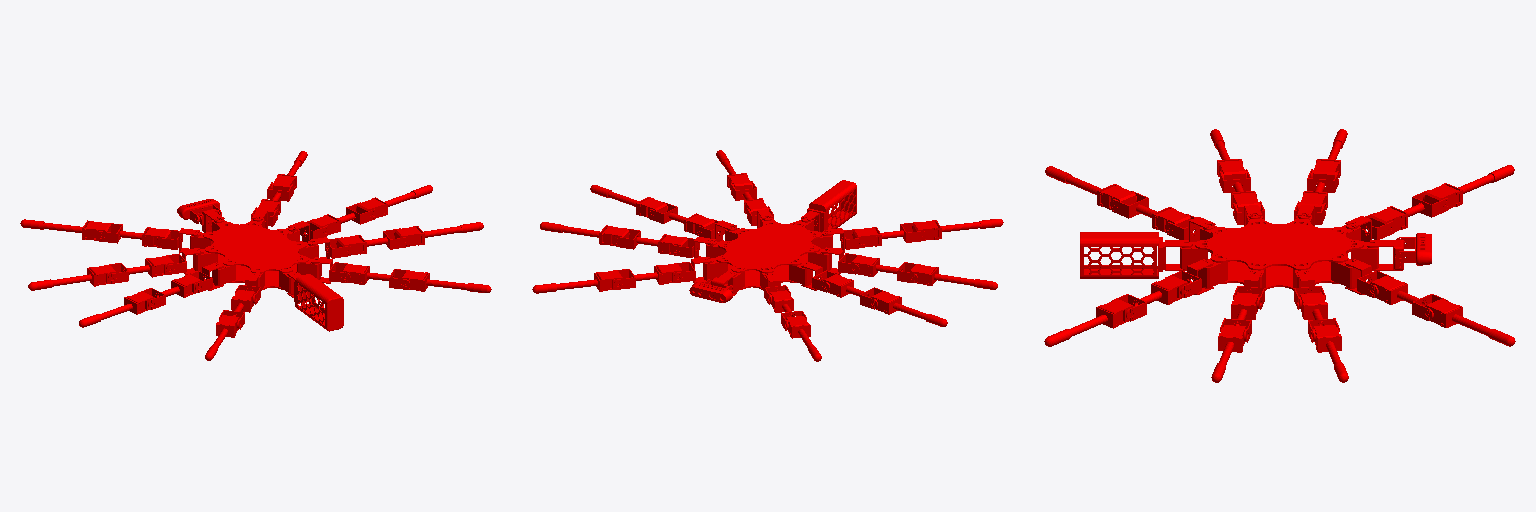
--- Facts derived from the render (not from the file) ---
3 views of the same robot in one strip: view 1: azimuth 30°, elevation 25°; view 2: azimuth 150°, elevation 25°; view 3: azimuth 270°, elevation 25° (orthographic).
Model nightmare_v2 with 54 links and 53 joints (27 continuous, 26 fixed), rooted at base_link, posed all joints at 0.
Links seen in each view (by area): view 1: base_link, Component62_1, head_link_1, leg_6_tibia_1, leg_1_tibia_1, leg_7_tibia_1, leg_1_femur_1, leg_6_femur_1, leg_2_femur_1; view 2: base_link, Component62_1, head_link_1, leg_7_tibia_1, leg_4_tibia_1, leg_6_tibia_1, leg_4_femur_1, leg_7_femur_1, leg_8_tibia_1, leg_8_femur_1, leg_6_femur_1; view 3: base_link, Component62_1, head_link_1, leg_4_tibia_1, leg_1_tibia_1, leg_4_femur_1, leg_1_femur_1, leg_8_femur_1, leg_5_femur_1, leg_3_tibia_1, leg_2_tibia_1, leg_1_coxa_1 (+13 smaller).
Boxes of the visible links, <box> form: base_link: <box>203,221,308,289</box>; Component62_1: <box>287,271,343,331</box>; head_link_1: <box>177,199,221,223</box>; leg_6_tibia_1: <box>28,267,98,290</box>; leg_1_tibia_1: <box>418,272,491,292</box>; leg_7_tibia_1: <box>79,296,140,327</box>; leg_1_femur_1: <box>358,266,409,289</box>; leg_6_femur_1: <box>104,258,156,283</box>; leg_2_femur_1: <box>355,228,407,254</box>; base_link: <box>716,221,821,289</box>; Component62_1: <box>801,180,856,231</box>; head_link_1: <box>689,279,734,302</box>; leg_7_tibia_1: <box>925,267,997,289</box>; leg_4_tibia_1: <box>532,272,603,293</box>; leg_6_tibia_1: <box>884,296,947,326</box>; leg_4_femur_1: <box>613,265,663,289</box>; leg_7_femur_1: <box>867,258,920,282</box>; leg_8_tibia_1: <box>932,219,1003,239</box>; leg_8_femur_1: <box>872,222,923,246</box>; leg_6_femur_1: <box>836,279,888,309</box>; base_link: <box>1195,219,1363,290</box>; Component62_1: <box>1080,232,1188,278</box>; head_link_1: <box>1395,233,1431,265</box>; leg_4_tibia_1: <box>1440,305,1515,346</box>; leg_1_tibia_1: <box>1044,305,1117,346</box>; leg_4_femur_1: <box>1385,282,1448,320</box>; leg_1_femur_1: <box>1111,281,1171,321</box>; leg_8_femur_1: <box>1112,191,1175,229</box>; leg_5_femur_1: <box>1387,190,1447,229</box>; leg_3_tibia_1: <box>1316,334,1348,382</box>; leg_2_tibia_1: <box>1211,333,1242,382</box>; leg_1_coxa_1: <box>1165,259,1213,297</box>.
Bounding box of the posed robot: 937 × 753 × 71.4 m (x, y, z).
54 mesh visuals loaded from 54 distinct referenced files (54 ASCII STL).

The robot description file, URDF, robot "nightmare_v2":
<?xml version="1.0" ?>
<robot name="nightmare_v2">
<link name="base_link">
  <inertial>
    <origin rpy="0 0 0" xyz="0.05 0.0395 0.094"/>
    <mass value="1.536457"/>
    <inertia ixx="0.006536" ixy="-0.0" ixz="0.001516" iyy="0.003408" iyz="-0.001516" izz="0.008833"/>
  </inertial>
  <visual>
    <origin rpy="0 0 0" xyz="0 0 0"/>
    <geometry>
      <mesh filename="package://nightmare_description/meshes/base_link.stl"/>
    </geometry>
    <material name="silver">
      <color rgba="1 0 0 1"/>
    </material>
  </visual>
  <collision>
    <origin rpy="0 0 0" xyz="0 0 0"/>
    <geometry>
      <mesh filename="package://nightmare_description/meshes/base_link.stl"/>
    </geometry>
  </collision>
</link>
<link name="leg_8_motor_1">
  <inertial>
    <origin rpy="0 0 0" xyz="-0.020134 -0.005285000000000005 -0.017271999999999996"/>
    <mass value="0.315076"/>
    <inertia ixx="7e-05" ixy="-1.9e-05" ixz="0.001637" iyy="7e-05" iyz="-0.001637" izz="6.9e-05"/>
  </inertial>
  <visual>
    <origin rpy="0 0 0" xyz="-0.010319 0.059677 -0.1115"/>
    <geometry>
      <mesh filename="package://nightmare_description/meshes/leg_8_motor_1.stl"/>
    </geometry>
    <material name="silver">
      <color rgba="1 0 0 1"/>
    </material>
  </visual>
  <collision>
    <origin rpy="0 0 0" xyz="-0.010319 0.059677 -0.1115"/>
    <geometry>
      <mesh filename="package://nightmare_description/meshes/leg_8_motor_1.stl"/>
    </geometry>
  </collision>
</link>
<link name="leg_1_motor_1">
  <inertial>
    <origin rpy="0 0 0" xyz="0.020134 -0.005284999999999998 -0.017271999999999996"/>
    <mass value="0.315076"/>
    <inertia ixx="7e-05" ixy="1.9e-05" ixz="0.005357" iyy="7e-05" iyz="-0.005357" izz="6.9e-05"/>
  </inertial>
  <visual>
    <origin rpy="0 0 0" xyz="-0.09251 0.062505 -0.1115"/>
    <geometry>
      <mesh filename="package://nightmare_description/meshes/leg_1_motor_1.stl"/>
    </geometry>
    <material name="silver">
      <color rgba="1 0 0 1"/>
    </material>
  </visual>
  <collision>
    <origin rpy="0 0 0" xyz="-0.09251 0.062505 -0.1115"/>
    <geometry>
      <mesh filename="package://nightmare_description/meshes/leg_1_motor_1.stl"/>
    </geometry>
  </collision>
</link>
<link name="tail_motor_1">
  <inertial>
    <origin rpy="0 0 0" xyz="-0.010499999999999995 -0.017974000000000004 -0.017271999999999996"/>
    <mass value="0.315076"/>
    <inertia ixx="8.8e-05" ixy="-0.0" ixz="0.004371" iyy="5.1e-05" iyz="-0.004371" izz="6.9e-05"/>
  </inertial>
  <visual>
    <origin rpy="0 0 0" xyz="-0.06025 0.0795 -0.1115"/>
    <geometry>
      <mesh filename="package://nightmare_description/meshes/tail_motor_1.stl"/>
    </geometry>
    <material name="silver">
      <color rgba="1 0 0 1"/>
    </material>
  </visual>
  <collision>
    <origin rpy="0 0 0" xyz="-0.06025 0.0795 -0.1115"/>
    <geometry>
      <mesh filename="package://nightmare_description/meshes/tail_motor_1.stl"/>
    </geometry>
  </collision>
</link>
<link name="leg_2_motor_1">
  <inertial>
    <origin rpy="0 0 0" xyz="0.019523999999999986 0.007219 -0.017271999999999996"/>
    <mass value="0.315076"/>
    <inertia ixx="5.2e-05" ixy="6e-06" ixz="0.004295" iyy="8.7e-05" iyz="-0.004295" izz="6.9e-05"/>
  </inertial>
  <visual>
    <origin rpy="0 0 0" xyz="-0.127311 0.005052 -0.1115"/>
    <geometry>
      <mesh filename="package://nightmare_description/meshes/leg_2_motor_1.stl"/>
    </geometry>
    <material name="silver">
      <color rgba="1 0 0 1"/>
    </material>
  </visual>
  <collision>
    <origin rpy="0 0 0" xyz="-0.127311 0.005052 -0.1115"/>
    <geometry>
      <mesh filename="package://nightmare_description/meshes/leg_2_motor_1.stl"/>
    </geometry>
  </collision>
</link>
<link name="leg_3_motor_1">
  <inertial>
    <origin rpy="0 0 0" xyz="0.019523999999999986 -0.007219000000000003 -0.017271999999999996"/>
    <mass value="0.315076"/>
    <inertia ixx="5.2e-05" ixy="-6e-06" ixz="0.002078" iyy="8.7e-05" iyz="-0.002078" izz="6.9e-05"/>
  </inertial>
  <visual>
    <origin rpy="0 0 0" xyz="-0.127311 -0.084052 -0.1115"/>
    <geometry>
      <mesh filename="package://nightmare_description/meshes/leg_3_motor_1.stl"/>
    </geometry>
    <material name="silver">
      <color rgba="1 0 0 1"/>
    </material>
  </visual>
  <collision>
    <origin rpy="0 0 0" xyz="-0.127311 -0.084052 -0.1115"/>
    <geometry>
      <mesh filename="package://nightmare_description/meshes/leg_3_motor_1.stl"/>
    </geometry>
  </collision>
</link>
<link name="leg_4_motor_1">
  <inertial>
    <origin rpy="0 0 0" xyz="0.020134 0.005285000000000012 -0.017271999999999996"/>
    <mass value="0.315076"/>
    <inertia ixx="7e-05" ixy="-1.9e-05" ixz="-0.001014" iyy="7e-05" iyz="0.001014" izz="6.9e-05"/>
  </inertial>
  <visual>
    <origin rpy="0 0 0" xyz="-0.09251 -0.141505 -0.1115"/>
    <geometry>
      <mesh filename="package://nightmare_description/meshes/leg_4_motor_1.stl"/>
    </geometry>
    <material name="silver">
      <color rgba="1 0 0 1"/>
    </material>
  </visual>
  <collision>
    <origin rpy="0 0 0" xyz="-0.09251 -0.141505 -0.1115"/>
    <geometry>
      <mesh filename="package://nightmare_description/meshes/leg_4_motor_1.stl"/>
    </geometry>
  </collision>
</link>
<link name="head_motor_pan_1">
  <inertial>
    <origin rpy="0 0 0" xyz="0.010500000000000002 0.01797399999999999 -0.017271999999999996"/>
    <mass value="0.315076"/>
    <inertia ixx="8.8e-05" ixy="0.0" ixz="-0.003747" iyy="5.1e-05" iyz="0.003747" izz="6.9e-05"/>
  </inertial>
  <visual>
    <origin rpy="0 0 0" xyz="-0.03975 -0.1585 -0.1115"/>
    <geometry>
      <mesh filename="package://nightmare_description/meshes/head_motor_pan_1.stl"/>
    </geometry>
    <material name="silver">
      <color rgba="1 0 0 1"/>
    </material>
  </visual>
  <collision>
    <origin rpy="0 0 0" xyz="-0.03975 -0.1585 -0.1115"/>
    <geometry>
      <mesh filename="package://nightmare_description/meshes/head_motor_pan_1.stl"/>
    </geometry>
  </collision>
</link>
<link name="leg_5_motor_1">
  <inertial>
    <origin rpy="0 0 0" xyz="-0.020134 0.005285000000000012 -0.017271999999999996"/>
    <mass value="0.315076"/>
    <inertia ixx="7e-05" ixy="1.9e-05" ixz="-0.004733" iyy="7e-05" iyz="0.004733" izz="6.9e-05"/>
  </inertial>
  <visual>
    <origin rpy="0 0 0" xyz="-0.00749 -0.141505 -0.1115"/>
    <geometry>
      <mesh filename="package://nightmare_description/meshes/leg_5_motor_1.stl"/>
    </geometry>
    <material name="silver">
      <color rgba="1 0 0 1"/>
    </material>
  </visual>
  <collision>
    <origin rpy="0 0 0" xyz="-0.00749 -0.141505 -0.1115"/>
    <geometry>
      <mesh filename="package://nightmare_description/meshes/leg_5_motor_1.stl"/>
    </geometry>
  </collision>
</link>
<link name="leg_6_motor_1">
  <inertial>
    <origin rpy="0 0 0" xyz="-0.019524000000000003 -0.007219000000000003 -0.017271999999999996"/>
    <mass value="0.315076"/>
    <inertia ixx="5.2e-05" ixy="6e-06" ixz="-0.003672" iyy="8.7e-05" iyz="0.003671" izz="6.9e-05"/>
  </inertial>
  <visual>
    <origin rpy="0 0 0" xyz="0.027311 -0.084052 -0.1115"/>
    <geometry>
      <mesh filename="package://nightmare_description/meshes/leg_6_motor_1.stl"/>
    </geometry>
    <material name="silver">
      <color rgba="1 0 0 1"/>
    </material>
  </visual>
  <collision>
    <origin rpy="0 0 0" xyz="0.027311 -0.084052 -0.1115"/>
    <geometry>
      <mesh filename="package://nightmare_description/meshes/leg_6_motor_1.stl"/>
    </geometry>
  </collision>
</link>
<link name="leg_7_motor_1">
  <inertial>
    <origin rpy="0 0 0" xyz="-0.019524000000000003 0.007219 -0.017271999999999996"/>
    <mass value="0.315076"/>
    <inertia ixx="5.2e-05" ixy="-6e-06" ixz="-0.001455" iyy="8.7e-05" iyz="0.001455" izz="6.9e-05"/>
  </inertial>
  <visual>
    <origin rpy="0 0 0" xyz="0.027311 0.005052 -0.1115"/>
    <geometry>
      <mesh filename="package://nightmare_description/meshes/leg_7_motor_1.stl"/>
    </geometry>
    <material name="silver">
      <color rgba="1 0 0 1"/>
    </material>
  </visual>
  <collision>
    <origin rpy="0 0 0" xyz="0.027311 0.005052 -0.1115"/>
    <geometry>
      <mesh filename="package://nightmare_description/meshes/leg_7_motor_1.stl"/>
    </geometry>
  </collision>
</link>
<link name="leg_1_coxa_1">
  <inertial>
    <origin rpy="0 0 0" xyz="0.02405299999999999 -0.024052000000000004 -0.020500000000000004"/>
    <mass value="0.073783"/>
    <inertia ixx="3.2e-05" ixy="3e-06" ixz="0.001703" iyy="3.2e-05" iyz="-0.001703" izz="3.5e-05"/>
  </inertial>
  <visual>
    <origin rpy="0 0 0" xyz="-0.121147 0.076294 -0.1145"/>
    <geometry>
      <mesh filename="package://nightmare_description/meshes/leg_1_coxa_1.stl"/>
    </geometry>
    <material name="silver">
      <color rgba="1 0 0 1"/>
    </material>
  </visual>
  <collision>
    <origin rpy="0 0 0" xyz="-0.121147 0.076294 -0.1145"/>
    <geometry>
      <mesh filename="package://nightmare_description/meshes/leg_1_coxa_1.stl"/>
    </geometry>
  </collision>
</link>
<link name="leg_8_coxa_1">
  <inertial>
    <origin rpy="0 0 0" xyz="-0.024052 -0.02405299999999999 -0.020500000000000004"/>
    <mass value="0.073783"/>
    <inertia ixx="3.2e-05" ixy="-3e-06" ixz="0.000382" iyy="3.2e-05" iyz="-0.000382" izz="3.5e-05"/>
  </inertial>
  <visual>
    <origin rpy="0 0 0" xyz="0.018319 0.073465 -0.1145"/>
    <geometry>
      <mesh filename="package://nightmare_description/meshes/leg_8_coxa_1.stl"/>
    </geometry>
    <material name="silver">
      <color rgba="1 0 0 1"/>
    </material>
  </visual>
  <collision>
    <origin rpy="0 0 0" xyz="0.018319 0.073465 -0.1145"/>
    <geometry>
      <mesh filename="package://nightmare_description/meshes/leg_8_coxa_1.stl"/>
    </geometry>
  </collision>
</link>
<link name="leg_7_coxa_1">
  <inertial>
    <origin rpy="0 0 0" xyz="-0.03349799999999999 -0.005907 -0.020500000000000004"/>
    <mass value="0.073783"/>
    <inertia ixx="3e-05" ixy="-1e-06" ixz="-0.000599" iyy="3.5e-05" iyz="0.000599" izz="3.5e-05"/>
  </inertial>
  <visual>
    <origin rpy="0 0 0" xyz="0.058679 -7.9e-05 -0.1145"/>
    <geometry>
      <mesh filename="package://nightmare_description/meshes/leg_7_coxa_1.stl"/>
    </geometry>
    <material name="silver">
      <color rgba="1 0 0 1"/>
    </material>
  </visual>
  <collision>
    <origin rpy="0 0 0" xyz="0.058679 -7.9e-05 -0.1145"/>
    <geometry>
      <mesh filename="package://nightmare_description/meshes/leg_7_coxa_1.stl"/>
    </geometry>
  </collision>
</link>
<link name="leg_6_coxa_1">
  <inertial>
    <origin rpy="0 0 0" xyz="-0.03349799999999999 0.005906999999999996 -0.020500000000000004"/>
    <mass value="0.073783"/>
    <inertia ixx="3e-05" ixy="1e-06" ixz="-0.001228" iyy="3.5e-05" iyz="0.001228" izz="3.5e-05"/>
  </inertial>
  <visual>
    <origin rpy="0 0 0" xyz="0.058679 -0.078921 -0.1145"/>
    <geometry>
      <mesh filename="package://nightmare_description/meshes/leg_6_coxa_1.stl"/>
    </geometry>
    <material name="silver">
      <color rgba="1 0 0 1"/>
    </material>
  </visual>
  <collision>
    <origin rpy="0 0 0" xyz="0.058679 -0.078921 -0.1145"/>
    <geometry>
      <mesh filename="package://nightmare_description/meshes/leg_6_coxa_1.stl"/>
    </geometry>
  </collision>
</link>
<link name="leg_5_coxa_1">
  <inertial>
    <origin rpy="0 0 0" xyz="-0.024052999999999998 0.024052000000000018 -0.020500000000000004"/>
    <mass value="0.073783"/>
    <inertia ixx="3.2e-05" ixy="3e-06" ixz="-0.001557" iyy="3.2e-05" iyz="0.001557" izz="3.5e-05"/>
  </inertial>
  <visual>
    <origin rpy="0 0 0" xyz="0.021147 -0.155294 -0.1145"/>
    <geometry>
      <mesh filename="package://nightmare_description/meshes/leg_5_coxa_1.stl"/>
    </geometry>
    <material name="silver">
      <color rgba="1 0 0 1"/>
    </material>
  </visual>
  <collision>
    <origin rpy="0 0 0" xyz="0.021147 -0.155294 -0.1145"/>
    <geometry>
      <mesh filename="package://nightmare_description/meshes/leg_5_coxa_1.stl"/>
    </geometry>
  </collision>
</link>
<link name="leg_4_coxa_1">
  <inertial>
    <origin rpy="0 0 0" xyz="0.02405299999999999 0.024052000000000018 -0.020500000000000004"/>
    <mass value="0.073783"/>
    <inertia ixx="3.2e-05" ixy="-3e-06" ixz="-0.000237" iyy="3.2e-05" iyz="0.000237" izz="3.5e-05"/>
  </inertial>
  <visual>
    <origin rpy="0 0 0" xyz="-0.121147 -0.155294 -0.1145"/>
    <geometry>
      <mesh filename="package://nightmare_description/meshes/leg_4_coxa_1.stl"/>
    </geometry>
    <material name="silver">
      <color rgba="1 0 0 1"/>
    </material>
  </visual>
  <collision>
    <origin rpy="0 0 0" xyz="-0.121147 -0.155294 -0.1145"/>
    <geometry>
      <mesh filename="package://nightmare_description/meshes/leg_4_coxa_1.stl"/>
    </geometry>
  </collision>
</link>
<link name="leg_3_coxa_1">
  <inertial>
    <origin rpy="0 0 0" xyz="0.033498 0.005906999999999996 -0.020500000000000004"/>
    <mass value="0.073783"/>
    <inertia ixx="3e-05" ixy="-1e-06" ixz="0.000745" iyy="3.5e-05" iyz="-0.000745" izz="3.5e-05"/>
  </inertial>
  <visual>
    <origin rpy="0 0 0" xyz="-0.158679 -0.078921 -0.1145"/>
    <geometry>
      <mesh filename="package://nightmare_description/meshes/leg_3_coxa_1.stl"/>
    </geometry>
    <material name="silver">
      <color rgba="1 0 0 1"/>
    </material>
  </visual>
  <collision>
    <origin rpy="0 0 0" xyz="-0.158679 -0.078921 -0.1145"/>
    <geometry>
      <mesh filename="package://nightmare_description/meshes/leg_3_coxa_1.stl"/>
    </geometry>
  </collision>
</link>
<link name="leg_2_coxa_1">
  <inertial>
    <origin rpy="0 0 0" xyz="0.033498 -0.005907 -0.020500000000000004"/>
    <mass value="0.073783"/>
    <inertia ixx="3e-05" ixy="1e-06" ixz="0.001373" iyy="3.5e-05" iyz="-0.001373" izz="3.5e-05"/>
  </inertial>
  <visual>
    <origin rpy="0 0 0" xyz="-0.158679 -7.9e-05 -0.1145"/>
    <geometry>
      <mesh filename="package://nightmare_description/meshes/leg_2_coxa_1.stl"/>
    </geometry>
    <material name="silver">
      <color rgba="1 0 0 1"/>
    </material>
  </visual>
  <collision>
    <origin rpy="0 0 0" xyz="-0.158679 -7.9e-05 -0.1145"/>
    <geometry>
      <mesh filename="package://nightmare_description/meshes/leg_2_coxa_1.stl"/>
    </geometry>
  </collision>
</link>
<link name="leg_8_motor__1__1">
  <inertial>
    <origin rpy="0 0 0" xyz="-0.023161 0.006152999999999992 0.0"/>
    <mass value="0.315076"/>
    <inertia ixx="6e-05" ixy="-9e-06" ixz="0.001624" iyy="6e-05" iyz="-0.001624" izz="8.8e-05"/>
  </inertial>
  <visual>
    <origin rpy="0 0 0" xyz="0.051928 0.136066 -0.094"/>
    <geometry>
      <mesh filename="package://nightmare_description/meshes/leg_8_motor__1__1.stl"/>
    </geometry>
    <material name="silver">
      <color rgba="1 0 0 1"/>
    </material>
  </visual>
  <collision>
    <origin rpy="0 0 0" xyz="0.051928 0.136066 -0.094"/>
    <geometry>
      <mesh filename="package://nightmare_description/meshes/leg_8_motor__1__1.stl"/>
    </geometry>
  </collision>
</link>
<link name="leg_7_motor__1__1">
  <inertial>
    <origin rpy="0 0 0" xyz="-0.015442999999999985 0.018324 0.0"/>
    <mass value="0.315076"/>
    <inertia ixx="5.2e-05" ixy="-3e-06" ixz="-0.003671" iyy="6.9e-05" iyz="0.003671" izz="8.8e-05"/>
  </inertial>
  <visual>
    <origin rpy="0 0 0" xyz="0.122116 0.031923 -0.094"/>
    <geometry>
      <mesh filename="package://nightmare_description/meshes/leg_7_motor__1__1.stl"/>
    </geometry>
    <material name="silver">
      <color rgba="1 0 0 1"/>
    </material>
  </visual>
  <collision>
    <origin rpy="0 0 0" xyz="0.122116 0.031923 -0.094"/>
    <geometry>
      <mesh filename="package://nightmare_description/meshes/leg_7_motor__1__1.stl"/>
    </geometry>
  </collision>
</link>
<link name="leg_6_motor__1__1">
  <inertial>
    <origin rpy="0 0 0" xyz="-0.008244000000000001 0.022501000000000007 0.0"/>
    <mass value="0.315076"/>
    <inertia ixx="5.2e-05" ixy="3e-06" ixz="-0.006828" iyy="6.8e-05" iyz="0.006828" izz="8.8e-05"/>
  </inertial>
  <visual>
    <origin rpy="0 0 0" xyz="0.129236 -0.070546 -0.094"/>
    <geometry>
      <mesh filename="package://nightmare_description/meshes/leg_6_motor__1__1.stl"/>
    </geometry>
    <material name="silver">
      <color rgba="1 0 0 1"/>
    </material>
  </visual>
  <collision>
    <origin rpy="0 0 0" xyz="0.129236 -0.070546 -0.094"/>
    <geometry>
      <mesh filename="package://nightmare_description/meshes/leg_6_motor__1__1.stl"/>
    </geometry>
  </collision>
</link>
<link name="leg_5_motor__1__1">
  <inertial>
    <origin rpy="0 0 0" xyz="0.006153000000000006 0.023160000000000014 0.0"/>
    <mass value="0.315076"/>
    <inertia ixx="6e-05" ixy="9e-06" ixz="-0.008579" iyy="6e-05" iyz="0.008579" izz="8.9e-05"/>
  </inertial>
  <visual>
    <origin rpy="0 0 0" xyz="0.083748 -0.188903 -0.094"/>
    <geometry>
      <mesh filename="package://nightmare_description/meshes/leg_5_motor__1__1.stl"/>
    </geometry>
    <material name="silver">
      <color rgba="1 0 0 1"/>
    </material>
  </visual>
  <collision>
    <origin rpy="0 0 0" xyz="0.083748 -0.188903 -0.094"/>
    <geometry>
      <mesh filename="package://nightmare_description/meshes/leg_5_motor__1__1.stl"/>
    </geometry>
  </collision>
</link>
<link name="leg_1_motor__1__1">
  <inertial>
    <origin rpy="0 0 0" xyz="0.022837999999999997 0.005831000000000003 0.0"/>
    <mass value="0.315076"/>
    <inertia ixx="6e-05" ixy="9e-06" ixz="0.009201" iyy="6e-05" iyz="-0.009201" izz="8.9e-05"/>
  </inertial>
  <visual>
    <origin rpy="0 0 0" xyz="-0.154757 0.138894 -0.094"/>
    <geometry>
      <mesh filename="package://nightmare_description/meshes/leg_1_motor__1__1.stl"/>
    </geometry>
    <material name="silver">
      <color rgba="1 0 0 1"/>
    </material>
  </visual>
  <collision>
    <origin rpy="0 0 0" xyz="-0.154757 0.138894 -0.094"/>
    <geometry>
      <mesh filename="package://nightmare_description/meshes/leg_1_motor__1__1.stl"/>
    </geometry>
  </collision>
</link>
<link name="leg_2_motor__1__1">
  <inertial>
    <origin rpy="0 0 0" xyz="0.015363999999999989 0.017876 0.0"/>
    <mass value="0.315076"/>
    <inertia ixx="5.2e-05" ixy="3e-06" ixz="0.00745" iyy="6.8e-05" iyz="-0.007449" izz="8.8e-05"/>
  </inertial>
  <visual>
    <origin rpy="0 0 0" xyz="-0.222116 0.031923 -0.094"/>
    <geometry>
      <mesh filename="package://nightmare_description/meshes/leg_2_motor__1__1.stl"/>
    </geometry>
    <material name="silver">
      <color rgba="1 0 0 1"/>
    </material>
  </visual>
  <collision>
    <origin rpy="0 0 0" xyz="-0.222116 0.031923 -0.094"/>
    <geometry>
      <mesh filename="package://nightmare_description/meshes/leg_2_motor__1__1.stl"/>
    </geometry>
  </collision>
</link>
<link name="leg_3_motor__1__1">
  <inertial>
    <origin rpy="0 0 0" xyz="0.008322999999999997 0.022053000000000003 0.0"/>
    <mass value="0.315076"/>
    <inertia ixx="5.2e-05" ixy="-3e-06" ixz="0.004293" iyy="6.9e-05" iyz="-0.004293" izz="8.8e-05"/>
  </inertial>
  <visual>
    <origin rpy="0 0 0" xyz="-0.229236 -0.070546 -0.094"/>
    <geometry>
      <mesh filename="package://nightmare_description/meshes/leg_3_motor__1__1.stl"/>
    </geometry>
    <material name="silver">
      <color rgba="1 0 0 1"/>
    </material>
  </visual>
  <collision>
    <origin rpy="0 0 0" xyz="-0.229236 -0.070546 -0.094"/>
    <geometry>
      <mesh filename="package://nightmare_description/meshes/leg_3_motor__1__1.stl"/>
    </geometry>
  </collision>
</link>
<link name="leg_4_motor__1__1">
  <inertial>
    <origin rpy="0 0 0" xyz="-0.005831000000000003 0.022839000000000026 0.0"/>
    <mass value="0.315076"/>
    <inertia ixx="6e-05" ixy="-9e-06" ixz="-0.001002" iyy="6e-05" iyz="0.001002" izz="8.8e-05"/>
  </inertial>
  <visual>
    <origin rpy="0 0 0" xyz="-0.183748 -0.188903 -0.094"/>
    <geometry>
      <mesh filename="package://nightmare_description/meshes/leg_4_motor__1__1.stl"/>
    </geometry>
    <material name="silver">
      <color rgba="1 0 0 1"/>
    </material>
  </visual>
  <collision>
    <origin rpy="0 0 0" xyz="-0.183748 -0.188903 -0.094"/>
    <geometry>
      <mesh filename="package://nightmare_description/meshes/leg_4_motor__1__1.stl"/>
    </geometry>
  </collision>
</link>
<link name="leg_1_femur_1">
  <inertial>
    <origin rpy="0 0 0" xyz="0.017867999999999995 -0.04230299999999998 -0.01063299999999999"/>
    <mass value="0.077868"/>
    <inertia ixx="4.3e-05" ixy="2.4e-05" ixz="0.002927" iyy="4.5e-05" iyz="-0.002927" izz="8.3e-05"/>
  </inertial>
  <visual>
    <origin rpy="0 0 0" xyz="-0.204961 0.135359 -0.1045"/>
    <geometry>
      <mesh filename="package://nightmare_description/meshes/leg_1_femur_1.stl"/>
    </geometry>
    <material name="silver">
      <color rgba="1 0 0 1"/>
    </material>
  </visual>
  <collision>
    <origin rpy="0 0 0" xyz="-0.204961 0.135359 -0.1045"/>
    <geometry>
      <mesh filename="package://nightmare_description/meshes/leg_1_femur_1.stl"/>
    </geometry>
  </collision>
</link>
<link name="leg_2_femur_1">
  <inertial>
    <origin rpy="0 0 0" xyz="0.03889999999999999 -0.024404000000000002 -0.01063299999999999"/>
    <mass value="0.077868"/>
    <inertia ixx="2.1e-05" ixy="7e-06" ixz="0.002374" iyy="6.7e-05" iyz="-0.002374" izz="8.3e-05"/>
  </inertial>
  <visual>
    <origin rpy="0 0 0" xyz="-0.261214 0.000231 -0.1045"/>
    <geometry>
      <mesh filename="package://nightmare_description/meshes/leg_2_femur_1.stl"/>
    </geometry>
    <material name="silver">
      <color rgba="1 0 0 1"/>
    </material>
  </visual>
  <collision>
    <origin rpy="0 0 0" xyz="-0.261214 0.000231 -0.1045"/>
    <geometry>
      <mesh filename="package://nightmare_description/meshes/leg_2_femur_1.stl"/>
    </geometry>
  </collision>
</link>
<link name="leg_3_femur_1">
  <inertial>
    <origin rpy="0 0 0" xyz="0.04490200000000005 -0.009626999999999997 -0.01063299999999999"/>
    <mass value="0.077868"/>
    <inertia ixx="2.2e-05" ixy="-9e-06" ixz="0.001432" iyy="6.7e-05" iyz="-0.001432" izz="8.3e-05"/>
  </inertial>
  <visual>
    <origin rpy="0 0 0" xyz="-0.255136 -0.113699 -0.1045"/>
    <geometry>
      <mesh filename="package://nightmare_description/meshes/leg_3_femur_1.stl"/>
    </geometry>
    <material name="silver">
      <color rgba="1 0 0 1"/>
    </material>
  </visual>
  <collision>
    <origin rpy="0 0 0" xyz="-0.255136 -0.113699 -0.1045"/>
    <geometry>
      <mesh filename="package://nightmare_description/meshes/leg_3_femur_1.stl"/>
    </geometry>
  </collision>
</link>
<link name="leg_4_femur_1">
  <inertial>
    <origin rpy="0 0 0" xyz="0.04230299999999998 0.017867999999999995 -0.01063299999999999"/>
    <mass value="0.077868"/>
    <inertia ixx="4.5e-05" ixy="-2.4e-05" ixz="-0.000252" iyy="4.3e-05" iyz="0.000252" izz="8.3e-05"/>
  </inertial>
  <visual>
    <origin rpy="0 0 0" xyz="-0.180213 -0.239108 -0.1045"/>
    <geometry>
      <mesh filename="package://nightmare_description/meshes/leg_4_femur_1.stl"/>
    </geometry>
    <material name="silver">
      <color rgba="1 0 0 1"/>
    </material>
  </visual>
  <collision>
    <origin rpy="0 0 0" xyz="-0.180213 -0.239108 -0.1045"/>
    <geometry>
      <mesh filename="package://nightmare_description/meshes/leg_4_femur_1.stl"/>
    </geometry>
  </collision>
</link>
<link name="leg_8_femur_1">
  <inertial>
    <origin rpy="0 0 0" xyz="-0.04230400000000001 -0.017867999999999995 -0.01063299999999999"/>
    <mass value="0.077868"/>
    <inertia ixx="4.5e-05" ixy="-2.4e-05" ixz="0.000405" iyy="4.3e-05" iyz="-0.000405" izz="8.3e-05"/>
  </inertial>
  <visual>
    <origin rpy="0 0 0" xyz="0.077384 0.157279 -0.1045"/>
    <geometry>
      <mesh filename="package://nightmare_description/meshes/leg_8_femur_1.stl"/>
    </geometry>
    <material name="silver">
      <color rgba="1 0 0 1"/>
    </material>
  </visual>
  <collision>
    <origin rpy="0 0 0" xyz="0.077384 0.157279 -0.1045"/>
    <geometry>
      <mesh filename="package://nightmare_description/meshes/leg_8_femur_1.stl"/>
    </geometry>
  </collision>
</link>
<link name="leg_6_femur_1">
  <inertial>
    <origin rpy="0 0 0" xyz="-0.03889999999999999 0.02440400000000001 -0.01063299999999999"/>
    <mass value="0.077868"/>
    <inertia ixx="2.1e-05" ixy="7e-06" ixz="-0.00222" iyy="6.7e-05" iyz="0.00222" izz="8.3e-05"/>
  </inertial>
  <visual>
    <origin rpy="0 0 0" xyz="0.161214 -0.079231 -0.1045"/>
    <geometry>
      <mesh filename="package://nightmare_description/meshes/leg_6_femur_1.stl"/>
    </geometry>
    <material name="silver">
      <color rgba="1 0 0 1"/>
    </material>
  </visual>
  <collision>
    <origin rpy="0 0 0" xyz="0.161214 -0.079231 -0.1045"/>
    <geometry>
      <mesh filename="package://nightmare_description/meshes/leg_6_femur_1.stl"/>
    </geometry>
  </collision>
</link>
<link name="leg_5_femur_1">
  <inertial>
    <origin rpy="0 0 0" xyz="-0.017867999999999995 0.04230300000000001 -0.01063299999999999"/>
    <mass value="0.077868"/>
    <inertia ixx="4.3e-05" ixy="2.4e-05" ixz="-0.002774" iyy="4.5e-05" iyz="0.002774" izz="8.3e-05"/>
  </inertial>
  <visual>
    <origin rpy="0 0 0" xyz="0.104961 -0.214359 -0.1045"/>
    <geometry>
      <mesh filename="package://nightmare_description/meshes/leg_5_femur_1.stl"/>
    </geometry>
    <material name="silver">
      <color rgba="1 0 0 1"/>
    </material>
  </visual>
  <collision>
    <origin rpy="0 0 0" xyz="0.104961 -0.214359 -0.1045"/>
    <geometry>
      <mesh filename="package://nightmare_description/meshes/leg_5_femur_1.stl"/>
    </geometry>
  </collision>
</link>
<link name="leg_1_motor__2__1">
  <inertial>
    <origin rpy="0 0 0" xyz="0.022838999999999998 0.005831000000000003 0.0"/>
    <mass value="0.315076"/>
    <inertia ixx="6e-05" ixy="9e-06" ixz="0.014363" iyy="6e-05" iyz="-0.014363" izz="8.8e-05"/>
  </inertial>
  <visual>
    <origin rpy="0 0 0" xyz="-0.242724 0.226155 -0.093821"/>
    <geometry>
      <mesh filename="package://nightmare_description/meshes/leg_1_motor__2__1.stl"/>
    </geometry>
    <material name="silver">
      <color rgba="1 0 0 1"/>
    </material>
  </visual>
  <collision>
    <origin rpy="0 0 0" xyz="-0.242724 0.226155 -0.093821"/>
    <geometry>
      <mesh filename="package://nightmare_description/meshes/leg_1_motor__2__1.stl"/>
    </geometry>
  </collision>
</link>
<link name="leg_2_motor__2__1">
  <inertial>
    <origin rpy="0 0 0" xyz="0.015363000000000016 0.017876000000000003 0.0"/>
    <mass value="0.315076"/>
    <inertia ixx="5.2e-05" ixy="3e-06" ixz="0.011666" iyy="6.8e-05" iyz="-0.011666" izz="8.8e-05"/>
  </inertial>
  <visual>
    <origin rpy="0 0 0" xyz="-0.344226 0.052947 -0.093821"/>
    <geometry>
      <mesh filename="package://nightmare_description/meshes/leg_2_motor__2__1.stl"/>
    </geometry>
    <material name="silver">
      <color rgba="1 0 0 1"/>
    </material>
  </visual>
  <collision>
    <origin rpy="0 0 0" xyz="-0.344226 0.052947 -0.093821"/>
    <geometry>
      <mesh filename="package://nightmare_description/meshes/leg_2_motor__2__1.stl"/>
    </geometry>
  </collision>
</link>
<link name="leg_3_motor__2__1">
  <inertial>
    <origin rpy="0 0 0" xyz="0.008323999999999998 0.022053000000000003 0.0"/>
    <mass value="0.315076"/>
    <inertia ixx="5.2e-05" ixy="-3e-06" ixz="0.007239" iyy="6.8e-05" iyz="-0.007239" izz="8.8e-05"/>
  </inertial>
  <visual>
    <origin rpy="0 0 0" xyz="-0.351171 -0.092554 -0.093821"/>
    <geometry>
      <mesh filename="package://nightmare_description/meshes/leg_3_motor__2__1.stl"/>
    </geometry>
    <material name="silver">
      <color rgba="1 0 0 1"/>
    </material>
  </visual>
  <collision>
    <origin rpy="0 0 0" xyz="-0.351171 -0.092554 -0.093821"/>
    <geometry>
      <mesh filename="package://nightmare_description/meshes/leg_3_motor__2__1.stl"/>
    </geometry>
  </collision>
</link>
<link name="leg_4_motor__2__1">
  <inertial>
    <origin rpy="0 0 0" xyz="-0.005831000000000031 0.022838000000000025 0.0"/>
    <mass value="0.315076"/>
    <inertia ixx="6e-05" ixy="-9e-06" ixz="-0.001021" iyy="6e-05" iyz="0.001021" izz="8.9e-05"/>
  </inertial>
  <visual>
    <origin rpy="0 0 0" xyz="-0.271008 -0.276871 -0.093821"/>
    <geometry>
      <mesh filename="package://nightmare_description/meshes/leg_4_motor__2__1.stl"/>
    </geometry>
    <material name="silver">
      <color rgba="1 0 0 1"/>
    </material>
  </visual>
  <collision>
    <origin rpy="0 0 0" xyz="-0.271008 -0.276871 -0.093821"/>
    <geometry>
      <mesh filename="package://nightmare_description/meshes/leg_4_motor__2__1.stl"/>
    </geometry>
  </collision>
</link>
<link name="leg_5_motor__2__1">
  <inertial>
    <origin rpy="0 0 0" xyz="0.0061530000000000196 0.02315999999999996 0.0"/>
    <mass value="0.315076"/>
    <inertia ixx="6e-05" ixy="9e-06" ixz="-0.013742" iyy="6e-05" iyz="0.013742" izz="8.8e-05"/>
  </inertial>
  <visual>
    <origin rpy="0 0 0" xyz="0.171716 -0.276164 -0.093821"/>
    <geometry>
      <mesh filename="package://nightmare_description/meshes/leg_5_motor__2__1.stl"/>
    </geometry>
    <material name="silver">
      <color rgba="1 0 0 1"/>
    </material>
  </visual>
  <collision>
    <origin rpy="0 0 0" xyz="0.171716 -0.276164 -0.093821"/>
    <geometry>
      <mesh filename="package://nightmare_description/meshes/leg_5_motor__2__1.stl"/>
    </geometry>
  </collision>
</link>
<link name="leg_6_motor__2__1">
  <inertial>
    <origin rpy="0 0 0" xyz="-0.008244000000000029 0.022501000000000007 0.0"/>
    <mass value="0.315076"/>
    <inertia ixx="5.2e-05" ixy="3e-06" ixz="-0.011046" iyy="6.8e-05" iyz="0.011046" izz="8.8e-05"/>
  </inertial>
  <visual>
    <origin rpy="0 0 0" xyz="0.251345 -0.09157 -0.093821"/>
    <geometry>
      <mesh filename="package://nightmare_description/meshes/leg_6_motor__2__1.stl"/>
    </geometry>
    <material name="silver">
      <color rgba="1 0 0 1"/>
    </material>
  </visual>
  <collision>
    <origin rpy="0 0 0" xyz="0.251345 -0.09157 -0.093821"/>
    <geometry>
      <mesh filename="package://nightmare_description/meshes/leg_6_motor__2__1.stl"/>
    </geometry>
  </collision>
</link>
<link name="leg_7_motor__2__1">
  <inertial>
    <origin rpy="0 0 0" xyz="-0.015442999999999985 0.018325 0.0"/>
    <mass value="0.315076"/>
    <inertia ixx="5.2e-05" ixy="-3e-06" ixz="-0.006618" iyy="6.9e-05" iyz="0.006618" izz="8.8e-05"/>
  </inertial>
  <visual>
    <origin rpy="0 0 0" xyz="0.244052 0.053932 -0.093821"/>
    <geometry>
      <mesh filename="package://nightmare_description/meshes/leg_7_motor__2__1.stl"/>
    </geometry>
    <material name="silver">
      <color rgba="1 0 0 1"/>
    </material>
  </visual>
  <collision>
    <origin rpy="0 0 0" xyz="0.244052 0.053932 -0.093821"/>
    <geometry>
      <mesh filename="package://nightmare_description/meshes/leg_7_motor__2__1.stl"/>
    </geometry>
  </collision>
</link>
<link name="leg_8_motor__2__1">
  <inertial>
    <origin rpy="0 0 0" xyz="-0.023159999999999986 0.0061530000000000196 0.0"/>
    <mass value="0.315076"/>
    <inertia ixx="6e-05" ixy="-9e-06" ixz="0.001642" iyy="6e-05" iyz="-0.001642" izz="8.8e-05"/>
  </inertial>
  <visual>
    <origin rpy="0 0 0" xyz="0.139189 0.224034 -0.093821"/>
    <geometry>
      <mesh filename="package://nightmare_description/meshes/leg_8_motor__2__1.stl"/>
    </geometry>
    <material name="silver">
      <color rgba="1 0 0 1"/>
    </material>
  </visual>
  <collision>
    <origin rpy="0 0 0" xyz="0.139189 0.224034 -0.093821"/>
    <geometry>
      <mesh filename="package://nightmare_description/meshes/leg_8_motor__2__1.stl"/>
    </geometry>
  </collision>
</link>
<link name="leg_8_tibia_1">
  <inertial>
    <origin rpy="0 0 0" xyz="-0.06303599999999998 -0.03870699999999999 -0.010863999999999999"/>
    <mass value="0.106884"/>
    <inertia ixx="0.000121" ixy="-0.000111" ixz="0.000562" iyy="0.000118" iyz="-0.000563" izz="0.000233"/>
  </inertial>
  <visual>
    <origin rpy="0 0 0" xyz="0.164645 0.245247 -0.104321"/>
    <geometry>
      <mesh filename="package://nightmare_description/meshes/leg_8_tibia_1.stl"/>
    </geometry>
    <material name="silver">
      <color rgba="1 0 0 1"/>
    </material>
  </visual>
  <collision>
    <origin rpy="0 0 0" xyz="0.164645 0.245247 -0.104321"/>
    <geometry>
      <mesh filename="package://nightmare_description/meshes/leg_8_tibia_1.stl"/>
    </geometry>
  </collision>
</link>
<link name="leg_6_tibia_1">
  <inertial>
    <origin rpy="0 0 0" xyz="-0.067863 0.029435000000000003 -0.010863999999999999"/>
    <mass value="0.106884"/>
    <inertia ixx="1.5e-05" ixy="3.6e-05" ixz="-0.004803" iyy="0.000224" iyz="0.004803" izz="0.000233"/>
  </inertial>
  <visual>
    <origin rpy="0 0 0" xyz="0.283323 -0.100254 -0.104321"/>
    <geometry>
      <mesh filename="package://nightmare_description/meshes/leg_6_tibia_1.stl"/>
    </geometry>
    <material name="silver">
      <color rgba="1 0 0 1"/>
    </material>
  </visual>
  <collision>
    <origin rpy="0 0 0" xyz="0.283323 -0.100254 -0.104321"/>
    <geometry>
      <mesh filename="package://nightmare_description/meshes/leg_6_tibia_1.stl"/>
    </geometry>
  </collision>
</link>
<link name="leg_5_tibia_1">
  <inertial>
    <origin rpy="0 0 0" xyz="-0.03870700000000002 0.06303699999999995 -0.010863999999999999"/>
    <mass value="0.106884"/>
    <inertia ixx="0.000118" ixy="0.000111" ixz="-0.005956" iyy="0.000121" iyz="0.005956" izz="0.000233"/>
  </inertial>
  <visual>
    <origin rpy="0 0 0" xyz="0.192929 -0.301619 -0.104321"/>
    <geometry>
      <mesh filename="package://nightmare_description/meshes/leg_5_tibia_1.stl"/>
    </geometry>
    <material name="silver">
      <color rgba="1 0 0 1"/>
    </material>
  </visual>
  <collision>
    <origin rpy="0 0 0" xyz="0.192929 -0.301619 -0.104321"/>
    <geometry>
      <mesh filename="package://nightmare_description/meshes/leg_5_tibia_1.stl"/>
    </geometry>
  </collision>
</link>
<link name="leg_4_tibia_1">
  <inertial>
    <origin rpy="0 0 0" xyz="0.06303599999999998 0.03870800000000002 -0.010863999999999999"/>
    <mass value="0.106884"/>
    <inertia ixx="0.000121" ixy="-0.000111" ixz="-0.000352" iyy="0.000118" iyz="0.000353" izz="0.000233"/>
  </inertial>
  <visual>
    <origin rpy="0 0 0" xyz="-0.267473 -0.327075 -0.104321"/>
    <geometry>
      <mesh filename="package://nightmare_description/meshes/leg_4_tibia_1.stl"/>
    </geometry>
    <material name="silver">
      <color rgba="1 0 0 1"/>
    </material>
  </visual>
  <collision>
    <origin rpy="0 0 0" xyz="-0.267473 -0.327075 -0.104321"/>
    <geometry>
      <mesh filename="package://nightmare_description/meshes/leg_4_tibia_1.stl"/>
    </geometry>
  </collision>
</link>
<link name="leg_3_tibia_1">
  <inertial>
    <origin rpy="0 0 0" xyz="0.07383799999999996 -0.0044490000000000085 -0.010863999999999999"/>
    <mass value="0.106884"/>
    <inertia ixx="1.6e-05" ixy="-3.9e-05" ixz="0.003193" iyy="0.000223" iyz="-0.003192" izz="0.000233"/>
  </inertial>
  <visual>
    <origin rpy="0 0 0" xyz="-0.377072 -0.135708 -0.104321"/>
    <geometry>
      <mesh filename="package://nightmare_description/meshes/leg_3_tibia_1.stl"/>
    </geometry>
    <material name="silver">
      <color rgba="1 0 0 1"/>
    </material>
  </visual>
  <collision>
    <origin rpy="0 0 0" xyz="-0.377072 -0.135708 -0.104321"/>
    <geometry>
      <mesh filename="package://nightmare_description/meshes/leg_3_tibia_1.stl"/>
    </geometry>
  </collision>
</link>
<link name="leg_2_tibia_1">
  <inertial>
    <origin rpy="0 0 0" xyz="0.06786299999999995 -0.029435 -0.010863999999999999"/>
    <mass value="0.106884"/>
    <inertia ixx="1.5e-05" ixy="3.6e-05" ixz="0.005013" iyy="0.000224" iyz="-0.005013" izz="0.000233"/>
  </inertial>
  <visual>
    <origin rpy="0 0 0" xyz="-0.383323 0.021254 -0.104321"/>
    <geometry>
      <mesh filename="package://nightmare_description/meshes/leg_2_tibia_1.stl"/>
    </geometry>
    <material name="silver">
      <color rgba="1 0 0 1"/>
    </material>
  </visual>
  <collision>
    <origin rpy="0 0 0" xyz="-0.383323 0.021254 -0.104321"/>
    <geometry>
      <mesh filename="package://nightmare_description/meshes/leg_2_tibia_1.stl"/>
    </geometry>
  </collision>
</link>
<link name="leg_1_tibia_1">
  <inertial>
    <origin rpy="0 0 0" xyz="0.03870699999999999 -0.06303700000000001 -0.010863999999999999"/>
    <mass value="0.106884"/>
    <inertia ixx="0.000118" ixy="0.000111" ixz="0.006166" iyy="0.000121" iyz="-0.006166" izz="0.000233"/>
  </inertial>
  <visual>
    <origin rpy="0 0 0" xyz="-0.292929 0.222619 -0.104321"/>
    <geometry>
      <mesh filename="package://nightmare_description/meshes/leg_1_tibia_1.stl"/>
    </geometry>
    <material name="silver">
      <color rgba="1 0 0 1"/>
    </material>
  </visual>
  <collision>
    <origin rpy="0 0 0" xyz="-0.292929 0.222619 -0.104321"/>
    <geometry>
      <mesh filename="package://nightmare_description/meshes/leg_1_tibia_1.stl"/>
    </geometry>
  </collision>
</link>
<link name="Component62_1">
  <inertial>
    <origin rpy="0 0 0" xyz="6.399999999999462e-05 -0.08348199999999999 -0.02024200000000001"/>
    <mass value="0.502392"/>
    <inertia ixx="0.001514" ixy="0.0" ixz="0.011489" iyy="0.000379" iyz="-0.011497" izz="0.001285"/>
  </inertial>
  <visual>
    <origin rpy="0 0 0" xyz="-0.04975 0.1095 -0.1145"/>
    <geometry>
      <mesh filename="package://nightmare_description/meshes/Component62_1.stl"/>
    </geometry>
    <material name="silver">
      <color rgba="1 0 0 1"/>
    </material>
  </visual>
  <collision>
    <origin rpy="0 0 0" xyz="-0.04975 0.1095 -0.1145"/>
    <geometry>
      <mesh filename="package://nightmare_description/meshes/Component62_1.stl"/>
    </geometry>
  </collision>
</link>
<link name="head_neck_1">
  <inertial>
    <origin rpy="0 0 0" xyz="0.0017829999999999999 0.03881100000000001 -0.019412"/>
    <mass value="0.21541"/>
    <inertia ixx="6.1e-05" ixy="-1e-06" ixz="-0.003591" iyy="6e-05" iyz="0.00359" izz="4.1e-05"/>
  </inertial>
  <visual>
    <origin rpy="0 0 0" xyz="-0.05025 -0.1885 -0.1145"/>
    <geometry>
      <mesh filename="package://nightmare_description/meshes/head_neck_1.stl"/>
    </geometry>
    <material name="silver">
      <color rgba="1 0 0 1"/>
    </material>
  </visual>
  <collision>
    <origin rpy="0 0 0" xyz="-0.05025 -0.1885 -0.1145"/>
    <geometry>
      <mesh filename="package://nightmare_description/meshes/head_neck_1.stl"/>
    </geometry>
  </collision>
</link>
<link name="leg_7_femur_1">
  <inertial>
    <origin rpy="0 0 0" xyz="-0.044902 0.009627 -0.01063299999999999"/>
    <mass value="0.077868"/>
    <inertia ixx="2.2e-05" ixy="-9e-06" ixz="-0.001279" iyy="6.7e-05" iyz="0.001279" izz="8.3e-05"/>
  </inertial>
  <visual>
    <origin rpy="0 0 0" xyz="0.155136 0.034699 -0.1045"/>
    <geometry>
      <mesh filename="package://nightmare_description/meshes/leg_7_femur_1.stl"/>
    </geometry>
    <material name="silver">
      <color rgba="1 0 0 1"/>
    </material>
  </visual>
  <collision>
    <origin rpy="0 0 0" xyz="0.155136 0.034699 -0.1045"/>
    <geometry>
      <mesh filename="package://nightmare_description/meshes/leg_7_femur_1.stl"/>
    </geometry>
  </collision>
</link>
<link name="leg_7_tibia_1">
  <inertial>
    <origin rpy="0 0 0" xyz="-0.07383899999999999 0.0044490000000000016 -0.010863999999999999"/>
    <mass value="0.106884"/>
    <inertia ixx="1.6e-05" ixy="-3.9e-05" ixz="-0.002983" iyy="0.000223" iyz="0.002983" izz="0.000233"/>
  </inertial>
  <visual>
    <origin rpy="0 0 0" xyz="0.277071 0.056708 -0.104321"/>
    <geometry>
      <mesh filename="package://nightmare_description/meshes/leg_7_tibia_1.stl"/>
    </geometry>
    <material name="silver">
      <color rgba="1 0 0 1"/>
    </material>
  </visual>
  <collision>
    <origin rpy="0 0 0" xyz="0.277071 0.056708 -0.104321"/>
    <geometry>
      <mesh filename="package://nightmare_description/meshes/leg_7_tibia_1.stl"/>
    </geometry>
  </collision>
</link>
<link name="head_link_1">
  <inertial>
    <origin rpy="0 0 0" xyz="0.025273999999999998 0.03397799999999998 0.0013080000000000036"/>
    <mass value="0.386958"/>
    <inertia ixx="5.3e-05" ixy="-1e-06" ixz="-0.008832" iyy="0.000245" iyz="0.008831" izz="0.000265"/>
  </inertial>
  <visual>
    <origin rpy="0 0 0" xyz="-0.02525 -0.2335 -0.103878"/>
    <geometry>
      <mesh filename="package://nightmare_description/meshes/head_link_1.stl"/>
    </geometry>
    <material name="silver">
      <color rgba="1 0 0 1"/>
    </material>
  </visual>
  <collision>
    <origin rpy="0 0 0" xyz="-0.02525 -0.2335 -0.103878"/>
    <geometry>
      <mesh filename="package://nightmare_description/meshes/head_link_1.stl"/>
    </geometry>
  </collision>
</link>
<joint name="Rigid14" type="fixed">
  <origin rpy="0 0 0" xyz="0.010319 -0.059677 0.1115"/>
  <parent link="base_link"/>
  <child link="leg_8_motor_1"/>
</joint>
<transmission name="Rigid14_tran">
  <type>transmission_interface/SimpleTransmission</type>
  <joint name="Rigid14">
    <hardwareInterface>PositionJointInterface</hardwareInterface>
  </joint>
  <actuator name="Rigid14_actr">
    <hardwareInterface>PositionJointInterface</hardwareInterface>
    <mechanicalReduction>1</mechanicalReduction>
  </actuator>
</transmission>
<joint name="Rigid15" type="fixed">
  <origin rpy="0 0 0" xyz="0.09251 -0.062505 0.1115"/>
  <parent link="base_link"/>
  <child link="leg_1_motor_1"/>
</joint>
<transmission name="Rigid15_tran">
  <type>transmission_interface/SimpleTransmission</type>
  <joint name="Rigid15">
    <hardwareInterface>PositionJointInterface</hardwareInterface>
  </joint>
  <actuator name="Rigid15_actr">
    <hardwareInterface>PositionJointInterface</hardwareInterface>
    <mechanicalReduction>1</mechanicalReduction>
  </actuator>
</transmission>
<joint name="Rigid16" type="fixed">
  <origin rpy="0 0 0" xyz="0.06025 -0.0795 0.1115"/>
  <parent link="base_link"/>
  <child link="tail_motor_1"/>
</joint>
<transmission name="Rigid16_tran">
  <type>transmission_interface/SimpleTransmission</type>
  <joint name="Rigid16">
    <hardwareInterface>PositionJointInterface</hardwareInterface>
  </joint>
  <actuator name="Rigid16_actr">
    <hardwareInterface>PositionJointInterface</hardwareInterface>
    <mechanicalReduction>1</mechanicalReduction>
  </actuator>
</transmission>
<joint name="Rigid17" type="fixed">
  <origin rpy="0 0 0" xyz="0.127311 -0.005052 0.1115"/>
  <parent link="base_link"/>
  <child link="leg_2_motor_1"/>
</joint>
<transmission name="Rigid17_tran">
  <type>transmission_interface/SimpleTransmission</type>
  <joint name="Rigid17">
    <hardwareInterface>PositionJointInterface</hardwareInterface>
  </joint>
  <actuator name="Rigid17_actr">
    <hardwareInterface>PositionJointInterface</hardwareInterface>
    <mechanicalReduction>1</mechanicalReduction>
  </actuator>
</transmission>
<joint name="Rigid18" type="fixed">
  <origin rpy="0 0 0" xyz="0.127311 0.084052 0.1115"/>
  <parent link="base_link"/>
  <child link="leg_3_motor_1"/>
</joint>
<transmission name="Rigid18_tran">
  <type>transmission_interface/SimpleTransmission</type>
  <joint name="Rigid18">
    <hardwareInterface>PositionJointInterface</hardwareInterface>
  </joint>
  <actuator name="Rigid18_actr">
    <hardwareInterface>PositionJointInterface</hardwareInterface>
    <mechanicalReduction>1</mechanicalReduction>
  </actuator>
</transmission>
<joint name="Rigid19" type="fixed">
  <origin rpy="0 0 0" xyz="0.09251 0.141505 0.1115"/>
  <parent link="base_link"/>
  <child link="leg_4_motor_1"/>
</joint>
<transmission name="Rigid19_tran">
  <type>transmission_interface/SimpleTransmission</type>
  <joint name="Rigid19">
    <hardwareInterface>PositionJointInterface</hardwareInterface>
  </joint>
  <actuator name="Rigid19_actr">
    <hardwareInterface>PositionJointInterface</hardwareInterface>
    <mechanicalReduction>1</mechanicalReduction>
  </actuator>
</transmission>
<joint name="Rigid20" type="fixed">
  <origin rpy="0 0 0" xyz="0.03975 0.1585 0.1115"/>
  <parent link="base_link"/>
  <child link="head_motor_pan_1"/>
</joint>
<transmission name="Rigid20_tran">
  <type>transmission_interface/SimpleTransmission</type>
  <joint name="Rigid20">
    <hardwareInterface>PositionJointInterface</hardwareInterface>
  </joint>
  <actuator name="Rigid20_actr">
    <hardwareInterface>PositionJointInterface</hardwareInterface>
    <mechanicalReduction>1</mechanicalReduction>
  </actuator>
</transmission>
<joint name="Rigid21" type="fixed">
  <origin rpy="0 0 0" xyz="0.00749 0.141505 0.1115"/>
  <parent link="base_link"/>
  <child link="leg_5_motor_1"/>
</joint>
<transmission name="Rigid21_tran">
  <type>transmission_interface/SimpleTransmission</type>
  <joint name="Rigid21">
    <hardwareInterface>PositionJointInterface</hardwareInterface>
  </joint>
  <actuator name="Rigid21_actr">
    <hardwareInterface>PositionJointInterface</hardwareInterface>
    <mechanicalReduction>1</mechanicalReduction>
  </actuator>
</transmission>
<joint name="Rigid22" type="fixed">
  <origin rpy="0 0 0" xyz="-0.027311 0.084052 0.1115"/>
  <parent link="base_link"/>
  <child link="leg_6_motor_1"/>
</joint>
<transmission name="Rigid22_tran">
  <type>transmission_interface/SimpleTransmission</type>
  <joint name="Rigid22">
    <hardwareInterface>PositionJointInterface</hardwareInterface>
  </joint>
  <actuator name="Rigid22_actr">
    <hardwareInterface>PositionJointInterface</hardwareInterface>
    <mechanicalReduction>1</mechanicalReduction>
  </actuator>
</transmission>
<joint name="Rigid23" type="fixed">
  <origin rpy="0 0 0" xyz="-0.027311 -0.005052 0.1115"/>
  <parent link="base_link"/>
  <child link="leg_7_motor_1"/>
</joint>
<transmission name="Rigid23_tran">
  <type>transmission_interface/SimpleTransmission</type>
  <joint name="Rigid23">
    <hardwareInterface>PositionJointInterface</hardwareInterface>
  </joint>
  <actuator name="Rigid23_actr">
    <hardwareInterface>PositionJointInterface</hardwareInterface>
    <mechanicalReduction>1</mechanicalReduction>
  </actuator>
</transmission>
<joint name="Rev24" type="continuous">
  <origin rpy="0 0 0" xyz="0.028637 -0.013789 0.003"/>
  <parent link="leg_1_motor_1"/>
  <child link="leg_1_coxa_1"/>
  <axis xyz="-0.0 0.0 -0.01"/>
</joint>
<transmission name="Rev24_tran">
  <type>transmission_interface/SimpleTransmission</type>
  <joint name="Rev24">
    <hardwareInterface>PositionJointInterface</hardwareInterface>
  </joint>
  <actuator name="Rev24_actr">
    <hardwareInterface>PositionJointInterface</hardwareInterface>
    <mechanicalReduction>1</mechanicalReduction>
  </actuator>
</transmission>
<joint name="Rev25" type="continuous">
  <origin rpy="0 0 0" xyz="-0.028638 -0.013788 0.003"/>
  <parent link="leg_8_motor_1"/>
  <child link="leg_8_coxa_1"/>
  <axis xyz="-0.0 0.0 -0.01"/>
</joint>
<transmission name="Rev25_tran">
  <type>transmission_interface/SimpleTransmission</type>
  <joint name="Rev25">
    <hardwareInterface>PositionJointInterface</hardwareInterface>
  </joint>
  <actuator name="Rev25_actr">
    <hardwareInterface>PositionJointInterface</hardwareInterface>
    <mechanicalReduction>1</mechanicalReduction>
  </actuator>
</transmission>
<joint name="Rev26" type="continuous">
  <origin rpy="0 0 0" xyz="-0.031368 0.005131 0.003"/>
  <parent link="leg_7_motor_1"/>
  <child link="leg_7_coxa_1"/>
  <axis xyz="-0.0 0.0 -0.01"/>
</joint>
<transmission name="Rev26_tran">
  <type>transmission_interface/SimpleTransmission</type>
  <joint name="Rev26">
    <hardwareInterface>PositionJointInterface</hardwareInterface>
  </joint>
  <actuator name="Rev26_actr">
    <hardwareInterface>PositionJointInterface</hardwareInterface>
    <mechanicalReduction>1</mechanicalReduction>
  </actuator>
</transmission>
<joint name="Rev27" type="continuous">
  <origin rpy="0 0 0" xyz="-0.031368 -0.005131 0.003"/>
  <parent link="leg_6_motor_1"/>
  <child link="leg_6_coxa_1"/>
  <axis xyz="0.0 0.0 -0.01"/>
</joint>
<transmission name="Rev27_tran">
  <type>transmission_interface/SimpleTransmission</type>
  <joint name="Rev27">
    <hardwareInterface>PositionJointInterface</hardwareInterface>
  </joint>
  <actuator name="Rev27_actr">
    <hardwareInterface>PositionJointInterface</hardwareInterface>
    <mechanicalReduction>1</mechanicalReduction>
  </actuator>
</transmission>
<joint name="Rev28" type="continuous">
  <origin rpy="0 0 0" xyz="-0.028637 0.013789 0.003"/>
  <parent link="leg_5_motor_1"/>
  <child link="leg_5_coxa_1"/>
  <axis xyz="-0.0 0.0 -0.01"/>
</joint>
<transmission name="Rev28_tran">
  <type>transmission_interface/SimpleTransmission</type>
  <joint name="Rev28">
    <hardwareInterface>PositionJointInterface</hardwareInterface>
  </joint>
  <actuator name="Rev28_actr">
    <hardwareInterface>PositionJointInterface</hardwareInterface>
    <mechanicalReduction>1</mechanicalReduction>
  </actuator>
</transmission>
<joint name="Rev29" type="continuous">
  <origin rpy="0 0 0" xyz="0.028637 0.013789 0.003"/>
  <parent link="leg_4_motor_1"/>
  <child link="leg_4_coxa_1"/>
  <axis xyz="-0.0 0.0 -0.01"/>
</joint>
<transmission name="Rev29_tran">
  <type>transmission_interface/SimpleTransmission</type>
  <joint name="Rev29">
    <hardwareInterface>PositionJointInterface</hardwareInterface>
  </joint>
  <actuator name="Rev29_actr">
    <hardwareInterface>PositionJointInterface</hardwareInterface>
    <mechanicalReduction>1</mechanicalReduction>
  </actuator>
</transmission>
<joint name="Rev30" type="continuous">
  <origin rpy="0 0 0" xyz="0.031368 -0.005131 0.003"/>
  <parent link="leg_3_motor_1"/>
  <child link="leg_3_coxa_1"/>
  <axis xyz="-0.0 0.0 -0.01"/>
</joint>
<transmission name="Rev30_tran">
  <type>transmission_interface/SimpleTransmission</type>
  <joint name="Rev30">
    <hardwareInterface>PositionJointInterface</hardwareInterface>
  </joint>
  <actuator name="Rev30_actr">
    <hardwareInterface>PositionJointInterface</hardwareInterface>
    <mechanicalReduction>1</mechanicalReduction>
  </actuator>
</transmission>
<joint name="Rev31" type="continuous">
  <origin rpy="0 0 0" xyz="0.031368 0.005131 0.003"/>
  <parent link="leg_2_motor_1"/>
  <child link="leg_2_coxa_1"/>
  <axis xyz="-0.0 0.0 -0.01"/>
</joint>
<transmission name="Rev31_tran">
  <type>transmission_interface/SimpleTransmission</type>
  <joint name="Rev31">
    <hardwareInterface>PositionJointInterface</hardwareInterface>
  </joint>
  <actuator name="Rev31_actr">
    <hardwareInterface>PositionJointInterface</hardwareInterface>
    <mechanicalReduction>1</mechanicalReduction>
  </actuator>
</transmission>
<joint name="Rev32" type="continuous">
  <origin rpy="0 0 0" xyz="-0.033609 -0.062601 -0.0205"/>
  <parent link="leg_8_coxa_1"/>
  <child link="leg_8_motor__1__1"/>
  <axis xyz="-0.007071 0.007071 -0.0"/>
</joint>
<transmission name="Rev32_tran">
  <type>transmission_interface/SimpleTransmission</type>
  <joint name="Rev32">
    <hardwareInterface>PositionJointInterface</hardwareInterface>
  </joint>
  <actuator name="Rev32_actr">
    <hardwareInterface>PositionJointInterface</hardwareInterface>
    <mechanicalReduction>1</mechanicalReduction>
  </actuator>
</transmission>
<joint name="Rev33" type="continuous">
  <origin rpy="0 0 0" xyz="-0.063437 -0.032002 -0.0205"/>
  <parent link="leg_7_coxa_1"/>
  <child link="leg_7_motor__1__1"/>
  <axis xyz="-0.001736 0.009848 -0.0"/>
</joint>
<transmission name="Rev33_tran">
  <type>transmission_interface/SimpleTransmission</type>
  <joint name="Rev33">
    <hardwareInterface>PositionJointInterface</hardwareInterface>
  </joint>
  <actuator name="Rev33_actr">
    <hardwareInterface>PositionJointInterface</hardwareInterface>
    <mechanicalReduction>1</mechanicalReduction>
  </actuator>
</transmission>
<joint name="Rev34" type="continuous">
  <origin rpy="0 0 0" xyz="-0.070557 -0.008375 -0.0205"/>
  <parent link="leg_6_coxa_1"/>
  <child link="leg_6_motor__1__1"/>
  <axis xyz="0.001736 0.009848 -0.0"/>
</joint>
<transmission name="Rev34_tran">
  <type>transmission_interface/SimpleTransmission</type>
  <joint name="Rev34">
    <hardwareInterface>PositionJointInterface</hardwareInterface>
  </joint>
  <actuator name="Rev34_actr">
    <hardwareInterface>PositionJointInterface</hardwareInterface>
    <mechanicalReduction>1</mechanicalReduction>
  </actuator>
</transmission>
<joint name="Rev35" type="continuous">
  <origin rpy="0 0 0" xyz="-0.062601 0.033609 -0.0205"/>
  <parent link="leg_5_coxa_1"/>
  <child link="leg_5_motor__1__1"/>
  <axis xyz="0.007071 0.007071 -0.0"/>
</joint>
<transmission name="Rev35_tran">
  <type>transmission_interface/SimpleTransmission</type>
  <joint name="Rev35">
    <hardwareInterface>PositionJointInterface</hardwareInterface>
  </joint>
  <actuator name="Rev35_actr">
    <hardwareInterface>PositionJointInterface</hardwareInterface>
    <mechanicalReduction>1</mechanicalReduction>
  </actuator>
</transmission>
<joint name="Rev36" type="continuous">
  <origin rpy="0 0 0" xyz="0.03361 -0.0626 -0.0205"/>
  <parent link="leg_1_coxa_1"/>
  <child link="leg_1_motor__1__1"/>
  <axis xyz="-0.007071 -0.007071 -0.0"/>
</joint>
<transmission name="Rev36_tran">
  <type>transmission_interface/SimpleTransmission</type>
  <joint name="Rev36">
    <hardwareInterface>PositionJointInterface</hardwareInterface>
  </joint>
  <actuator name="Rev36_actr">
    <hardwareInterface>PositionJointInterface</hardwareInterface>
    <mechanicalReduction>1</mechanicalReduction>
  </actuator>
</transmission>
<joint name="Rev37" type="continuous">
  <origin rpy="0 0 0" xyz="0.063437 -0.032002 -0.0205"/>
  <parent link="leg_2_coxa_1"/>
  <child link="leg_2_motor__1__1"/>
  <axis xyz="-0.001736 -0.009848 -0.0"/>
</joint>
<transmission name="Rev37_tran">
  <type>transmission_interface/SimpleTransmission</type>
  <joint name="Rev37">
    <hardwareInterface>PositionJointInterface</hardwareInterface>
  </joint>
  <actuator name="Rev37_actr">
    <hardwareInterface>PositionJointInterface</hardwareInterface>
    <mechanicalReduction>1</mechanicalReduction>
  </actuator>
</transmission>
<joint name="Rev38" type="continuous">
  <origin rpy="0 0 0" xyz="0.070557 -0.008375 -0.0205"/>
  <parent link="leg_3_coxa_1"/>
  <child link="leg_3_motor__1__1"/>
  <axis xyz="0.001736 -0.009848 -0.0"/>
</joint>
<transmission name="Rev38_tran">
  <type>transmission_interface/SimpleTransmission</type>
  <joint name="Rev38">
    <hardwareInterface>PositionJointInterface</hardwareInterface>
  </joint>
  <actuator name="Rev38_actr">
    <hardwareInterface>PositionJointInterface</hardwareInterface>
    <mechanicalReduction>1</mechanicalReduction>
  </actuator>
</transmission>
<joint name="Rev39" type="continuous">
  <origin rpy="0 0 0" xyz="0.062601 0.033609 -0.0205"/>
  <parent link="leg_4_coxa_1"/>
  <child link="leg_4_motor__1__1"/>
  <axis xyz="0.007071 -0.007071 -0.0"/>
</joint>
<transmission name="Rev39_tran">
  <type>transmission_interface/SimpleTransmission</type>
  <joint name="Rev39">
    <hardwareInterface>PositionJointInterface</hardwareInterface>
  </joint>
  <actuator name="Rev39_actr">
    <hardwareInterface>PositionJointInterface</hardwareInterface>
    <mechanicalReduction>1</mechanicalReduction>
  </actuator>
</transmission>
<joint name="Rigid40" type="fixed">
  <origin rpy="0 0 0" xyz="0.050204 0.003535 0.0105"/>
  <parent link="leg_1_motor__1__1"/>
  <child link="leg_1_femur_1"/>
</joint>
<transmission name="Rigid40_tran">
  <type>transmission_interface/SimpleTransmission</type>
  <joint name="Rigid40">
    <hardwareInterface>PositionJointInterface</hardwareInterface>
  </joint>
  <actuator name="Rigid40_actr">
    <hardwareInterface>PositionJointInterface</hardwareInterface>
    <mechanicalReduction>1</mechanicalReduction>
  </actuator>
</transmission>
<joint name="Rigid41" type="fixed">
  <origin rpy="0 0 0" xyz="0.039098 0.031692 0.0105"/>
  <parent link="leg_2_motor__1__1"/>
  <child link="leg_2_femur_1"/>
</joint>
<transmission name="Rigid41_tran">
  <type>transmission_interface/SimpleTransmission</type>
  <joint name="Rigid41">
    <hardwareInterface>PositionJointInterface</hardwareInterface>
  </joint>
  <actuator name="Rigid41_actr">
    <hardwareInterface>PositionJointInterface</hardwareInterface>
    <mechanicalReduction>1</mechanicalReduction>
  </actuator>
</transmission>
<joint name="Rigid42" type="fixed">
  <origin rpy="0 0 0" xyz="0.0259 0.043153 0.0105"/>
  <parent link="leg_3_motor__1__1"/>
  <child link="leg_3_femur_1"/>
</joint>
<transmission name="Rigid42_tran">
  <type>transmission_interface/SimpleTransmission</type>
  <joint name="Rigid42">
    <hardwareInterface>PositionJointInterface</hardwareInterface>
  </joint>
  <actuator name="Rigid42_actr">
    <hardwareInterface>PositionJointInterface</hardwareInterface>
    <mechanicalReduction>1</mechanicalReduction>
  </actuator>
</transmission>
<joint name="Rigid43" type="fixed">
  <origin rpy="0 0 0" xyz="-0.003535 0.050205 0.0105"/>
  <parent link="leg_4_motor__1__1"/>
  <child link="leg_4_femur_1"/>
</joint>
<transmission name="Rigid43_tran">
  <type>transmission_interface/SimpleTransmission</type>
  <joint name="Rigid43">
    <hardwareInterface>PositionJointInterface</hardwareInterface>
  </joint>
  <actuator name="Rigid43_actr">
    <hardwareInterface>PositionJointInterface</hardwareInterface>
    <mechanicalReduction>1</mechanicalReduction>
  </actuator>
</transmission>
<joint name="Rigid44" type="fixed">
  <origin rpy="0 0 0" xyz="-0.025456 -0.021213 0.0105"/>
  <parent link="leg_8_motor__1__1"/>
  <child link="leg_8_femur_1"/>
</joint>
<transmission name="Rigid44_tran">
  <type>transmission_interface/SimpleTransmission</type>
  <joint name="Rigid44">
    <hardwareInterface>PositionJointInterface</hardwareInterface>
  </joint>
  <actuator name="Rigid44_actr">
    <hardwareInterface>PositionJointInterface</hardwareInterface>
    <mechanicalReduction>1</mechanicalReduction>
  </actuator>
</transmission>
<joint name="Rigid46" type="fixed">
  <origin rpy="0 0 0" xyz="-0.031978 0.008685 0.0105"/>
  <parent link="leg_6_motor__1__1"/>
  <child link="leg_6_femur_1"/>
</joint>
<transmission name="Rigid46_tran">
  <type>transmission_interface/SimpleTransmission</type>
  <joint name="Rigid46">
    <hardwareInterface>PositionJointInterface</hardwareInterface>
  </joint>
  <actuator name="Rigid46_actr">
    <hardwareInterface>PositionJointInterface</hardwareInterface>
    <mechanicalReduction>1</mechanicalReduction>
  </actuator>
</transmission>
<joint name="Rigid47" type="fixed">
  <origin rpy="0 0 0" xyz="-0.021213 0.025456 0.0105"/>
  <parent link="leg_5_motor__1__1"/>
  <child link="leg_5_femur_1"/>
</joint>
<transmission name="Rigid47_tran">
  <type>transmission_interface/SimpleTransmission</type>
  <joint name="Rigid47">
    <hardwareInterface>PositionJointInterface</hardwareInterface>
  </joint>
  <actuator name="Rigid47_actr">
    <hardwareInterface>PositionJointInterface</hardwareInterface>
    <mechanicalReduction>1</mechanicalReduction>
  </actuator>
</transmission>
<joint name="Rev48" type="continuous">
  <origin rpy="0 0 0" xyz="0.037763 -0.090796 -0.010679"/>
  <parent link="leg_1_femur_1"/>
  <child link="leg_1_motor__2__1"/>
  <axis xyz="-0.007071 -0.007071 -0.0"/>
</joint>
<transmission name="Rev48_tran">
  <type>transmission_interface/SimpleTransmission</type>
  <joint name="Rev48">
    <hardwareInterface>PositionJointInterface</hardwareInterface>
  </joint>
  <actuator name="Rev48_actr">
    <hardwareInterface>PositionJointInterface</hardwareInterface>
    <mechanicalReduction>1</mechanicalReduction>
  </actuator>
</transmission>
<joint name="Rev49" type="continuous">
  <origin rpy="0 0 0" xyz="0.083012 -0.052716 -0.010679"/>
  <parent link="leg_2_femur_1"/>
  <child link="leg_2_motor__2__1"/>
  <axis xyz="-0.001736 -0.009848 -0.0"/>
</joint>
<transmission name="Rev49_tran">
  <type>transmission_interface/SimpleTransmission</type>
  <joint name="Rev49">
    <hardwareInterface>PositionJointInterface</hardwareInterface>
  </joint>
  <actuator name="Rev49_actr">
    <hardwareInterface>PositionJointInterface</hardwareInterface>
    <mechanicalReduction>1</mechanicalReduction>
  </actuator>
</transmission>
<joint name="Rev50" type="continuous">
  <origin rpy="0 0 0" xyz="0.096035 -0.021145 -0.010679"/>
  <parent link="leg_3_femur_1"/>
  <child link="leg_3_motor__2__1"/>
  <axis xyz="0.001736 -0.009848 -0.0"/>
</joint>
<transmission name="Rev50_tran">
  <type>transmission_interface/SimpleTransmission</type>
  <joint name="Rev50">
    <hardwareInterface>PositionJointInterface</hardwareInterface>
  </joint>
  <actuator name="Rev50_actr">
    <hardwareInterface>PositionJointInterface</hardwareInterface>
    <mechanicalReduction>1</mechanicalReduction>
  </actuator>
</transmission>
<joint name="Rev51" type="continuous">
  <origin rpy="0 0 0" xyz="0.090795 0.037763 -0.010679"/>
  <parent link="leg_4_femur_1"/>
  <child link="leg_4_motor__2__1"/>
  <axis xyz="0.007071 -0.007071 -0.0"/>
</joint>
<transmission name="Rev51_tran">
  <type>transmission_interface/SimpleTransmission</type>
  <joint name="Rev51">
    <hardwareInterface>PositionJointInterface</hardwareInterface>
  </joint>
  <actuator name="Rev51_actr">
    <hardwareInterface>PositionJointInterface</hardwareInterface>
    <mechanicalReduction>1</mechanicalReduction>
  </actuator>
</transmission>
<joint name="Rev52" type="continuous">
  <origin rpy="0 0 0" xyz="-0.066755 0.061805 -0.010679"/>
  <parent link="leg_5_femur_1"/>
  <child link="leg_5_motor__2__1"/>
  <axis xyz="0.007071 0.007071 -0.0"/>
</joint>
<transmission name="Rev52_tran">
  <type>transmission_interface/SimpleTransmission</type>
  <joint name="Rev52">
    <hardwareInterface>PositionJointInterface</hardwareInterface>
  </joint>
  <actuator name="Rev52_actr">
    <hardwareInterface>PositionJointInterface</hardwareInterface>
    <mechanicalReduction>1</mechanicalReduction>
  </actuator>
</transmission>
<joint name="Rev53" type="continuous">
  <origin rpy="0 0 0" xyz="-0.090131 0.012339 -0.010679"/>
  <parent link="leg_6_femur_1"/>
  <child link="leg_6_motor__2__1"/>
  <axis xyz="0.001736 0.009848 -0.0"/>
</joint>
<transmission name="Rev53_tran">
  <type>transmission_interface/SimpleTransmission</type>
  <joint name="Rev53">
    <hardwareInterface>PositionJointInterface</hardwareInterface>
  </joint>
  <actuator name="Rev53_actr">
    <hardwareInterface>PositionJointInterface</hardwareInterface>
    <mechanicalReduction>1</mechanicalReduction>
  </actuator>
</transmission>
<joint name="Rev54" type="continuous">
  <origin rpy="0 0 0" xyz="-0.088916 -0.019233 -0.010679"/>
  <parent link="leg_7_femur_1"/>
  <child link="leg_7_motor__2__1"/>
  <axis xyz="-0.001736 0.009848 -0.0"/>
</joint>
<transmission name="Rev54_tran">
  <type>transmission_interface/SimpleTransmission</type>
  <joint name="Rev54">
    <hardwareInterface>PositionJointInterface</hardwareInterface>
  </joint>
  <actuator name="Rev54_actr">
    <hardwareInterface>PositionJointInterface</hardwareInterface>
    <mechanicalReduction>1</mechanicalReduction>
  </actuator>
</transmission>
<joint name="Rev55" type="continuous">
  <origin rpy="0 0 0" xyz="-0.061805 -0.066755 -0.010679"/>
  <parent link="leg_8_femur_1"/>
  <child link="leg_8_motor__2__1"/>
  <axis xyz="-0.007071 0.007071 -0.0"/>
</joint>
<transmission name="Rev55_tran">
  <type>transmission_interface/SimpleTransmission</type>
  <joint name="Rev55">
    <hardwareInterface>PositionJointInterface</hardwareInterface>
  </joint>
  <actuator name="Rev55_actr">
    <hardwareInterface>PositionJointInterface</hardwareInterface>
    <mechanicalReduction>1</mechanicalReduction>
  </actuator>
</transmission>
<joint name="Rigid57" type="fixed">
  <origin rpy="0 0 0" xyz="-0.025456 -0.021213 0.0105"/>
  <parent link="leg_8_motor__2__1"/>
  <child link="leg_8_tibia_1"/>
</joint>
<transmission name="Rigid57_tran">
  <type>transmission_interface/SimpleTransmission</type>
  <joint name="Rigid57">
    <hardwareInterface>PositionJointInterface</hardwareInterface>
  </joint>
  <actuator name="Rigid57_actr">
    <hardwareInterface>PositionJointInterface</hardwareInterface>
    <mechanicalReduction>1</mechanicalReduction>
  </actuator>
</transmission>
<joint name="Rigid59" type="fixed">
  <origin rpy="0 0 0" xyz="-0.031978 0.008684 0.0105"/>
  <parent link="leg_6_motor__2__1"/>
  <child link="leg_6_tibia_1"/>
</joint>
<transmission name="Rigid59_tran">
  <type>transmission_interface/SimpleTransmission</type>
  <joint name="Rigid59">
    <hardwareInterface>PositionJointInterface</hardwareInterface>
  </joint>
  <actuator name="Rigid59_actr">
    <hardwareInterface>PositionJointInterface</hardwareInterface>
    <mechanicalReduction>1</mechanicalReduction>
  </actuator>
</transmission>
<joint name="Rigid60" type="fixed">
  <origin rpy="0 0 0" xyz="-0.021213 0.025455 0.0105"/>
  <parent link="leg_5_motor__2__1"/>
  <child link="leg_5_tibia_1"/>
</joint>
<transmission name="Rigid60_tran">
  <type>transmission_interface/SimpleTransmission</type>
  <joint name="Rigid60">
    <hardwareInterface>PositionJointInterface</hardwareInterface>
  </joint>
  <actuator name="Rigid60_actr">
    <hardwareInterface>PositionJointInterface</hardwareInterface>
    <mechanicalReduction>1</mechanicalReduction>
  </actuator>
</transmission>
<joint name="Rigid61" type="fixed">
  <origin rpy="0 0 0" xyz="-0.003535 0.050204 0.0105"/>
  <parent link="leg_4_motor__2__1"/>
  <child link="leg_4_tibia_1"/>
</joint>
<transmission name="Rigid61_tran">
  <type>transmission_interface/SimpleTransmission</type>
  <joint name="Rigid61">
    <hardwareInterface>PositionJointInterface</hardwareInterface>
  </joint>
  <actuator name="Rigid61_actr">
    <hardwareInterface>PositionJointInterface</hardwareInterface>
    <mechanicalReduction>1</mechanicalReduction>
  </actuator>
</transmission>
<joint name="Rigid62" type="fixed">
  <origin rpy="0 0 0" xyz="0.025901 0.043154 0.0105"/>
  <parent link="leg_3_motor__2__1"/>
  <child link="leg_3_tibia_1"/>
</joint>
<transmission name="Rigid62_tran">
  <type>transmission_interface/SimpleTransmission</type>
  <joint name="Rigid62">
    <hardwareInterface>PositionJointInterface</hardwareInterface>
  </joint>
  <actuator name="Rigid62_actr">
    <hardwareInterface>PositionJointInterface</hardwareInterface>
    <mechanicalReduction>1</mechanicalReduction>
  </actuator>
</transmission>
<joint name="Rigid63" type="fixed">
  <origin rpy="0 0 0" xyz="0.039097 0.031693 0.0105"/>
  <parent link="leg_2_motor__2__1"/>
  <child link="leg_2_tibia_1"/>
</joint>
<transmission name="Rigid63_tran">
  <type>transmission_interface/SimpleTransmission</type>
  <joint name="Rigid63">
    <hardwareInterface>PositionJointInterface</hardwareInterface>
  </joint>
  <actuator name="Rigid63_actr">
    <hardwareInterface>PositionJointInterface</hardwareInterface>
    <mechanicalReduction>1</mechanicalReduction>
  </actuator>
</transmission>
<joint name="Rigid64" type="fixed">
  <origin rpy="0 0 0" xyz="0.050205 0.003536 0.0105"/>
  <parent link="leg_1_motor__2__1"/>
  <child link="leg_1_tibia_1"/>
</joint>
<transmission name="Rigid64_tran">
  <type>transmission_interface/SimpleTransmission</type>
  <joint name="Rigid64">
    <hardwareInterface>PositionJointInterface</hardwareInterface>
  </joint>
  <actuator name="Rigid64_actr">
    <hardwareInterface>PositionJointInterface</hardwareInterface>
    <mechanicalReduction>1</mechanicalReduction>
  </actuator>
</transmission>
<joint name="Rev65" type="continuous">
  <origin rpy="0 0 0" xyz="-0.0105 -0.03 0.003"/>
  <parent link="tail_motor_1"/>
  <child link="Component62_1"/>
  <axis xyz="-0.0 0.0 -0.01"/>
</joint>
<transmission name="Rev65_tran">
  <type>transmission_interface/SimpleTransmission</type>
  <joint name="Rev65">
    <hardwareInterface>PositionJointInterface</hardwareInterface>
  </joint>
  <actuator name="Rev65_actr">
    <hardwareInterface>PositionJointInterface</hardwareInterface>
    <mechanicalReduction>1</mechanicalReduction>
  </actuator>
</transmission>
<joint name="Rev66" type="continuous">
  <origin rpy="0 0 0" xyz="0.0105 0.03 0.003"/>
  <parent link="head_motor_pan_1"/>
  <child link="head_neck_1"/>
  <axis xyz="-0.0 0.0 -0.01"/>
</joint>
<transmission name="Rev66_tran">
  <type>transmission_interface/SimpleTransmission</type>
  <joint name="Rev66">
    <hardwareInterface>PositionJointInterface</hardwareInterface>
  </joint>
  <actuator name="Rev66_actr">
    <hardwareInterface>PositionJointInterface</hardwareInterface>
    <mechanicalReduction>1</mechanicalReduction>
  </actuator>
</transmission>
<joint name="Rigid67" type="fixed">
  <origin rpy="0 0 0" xyz="-0.03302 -0.002776 0.0105"/>
  <parent link="leg_7_motor__1__1"/>
  <child link="leg_7_femur_1"/>
</joint>
<transmission name="Rigid67_tran">
  <type>transmission_interface/SimpleTransmission</type>
  <joint name="Rigid67">
    <hardwareInterface>PositionJointInterface</hardwareInterface>
  </joint>
  <actuator name="Rigid67_actr">
    <hardwareInterface>PositionJointInterface</hardwareInterface>
    <mechanicalReduction>1</mechanicalReduction>
  </actuator>
</transmission>
<joint name="Rigid68" type="fixed">
  <origin rpy="0 0 0" xyz="-0.033019 -0.002776 0.0105"/>
  <parent link="leg_7_motor__2__1"/>
  <child link="leg_7_tibia_1"/>
</joint>
<transmission name="Rigid68_tran">
  <type>transmission_interface/SimpleTransmission</type>
  <joint name="Rigid68">
    <hardwareInterface>PositionJointInterface</hardwareInterface>
  </joint>
  <actuator name="Rigid68_actr">
    <hardwareInterface>PositionJointInterface</hardwareInterface>
    <mechanicalReduction>1</mechanicalReduction>
  </actuator>
</transmission>
<joint name="Rev69" type="continuous">
  <origin rpy="0 0 0" xyz="-0.025 0.045 -0.010622"/>
  <parent link="head_neck_1"/>
  <child link="head_link_1"/>
  <axis xyz="0.01 -0.0 0.0"/>
</joint>
<transmission name="Rev69_tran">
  <type>transmission_interface/SimpleTransmission</type>
  <joint name="Rev69">
    <hardwareInterface>PositionJointInterface</hardwareInterface>
  </joint>
  <actuator name="Rev69_actr">
    <hardwareInterface>PositionJointInterface</hardwareInterface>
    <mechanicalReduction>1</mechanicalReduction>
  </actuator>
</transmission>
<gazebo>
  <plugin filename="libgazebo_ros_control.so" name="control"/>
</gazebo>
</robot>
